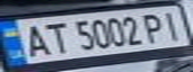0: (90, 16, 112, 50), (106, 15, 127, 48)
2: (121, 12, 145, 46)
5: (69, 17, 97, 52)
A: (15, 21, 54, 59)
I: (157, 8, 190, 42)
P: (139, 11, 172, 44)
T: (36, 20, 72, 55)
